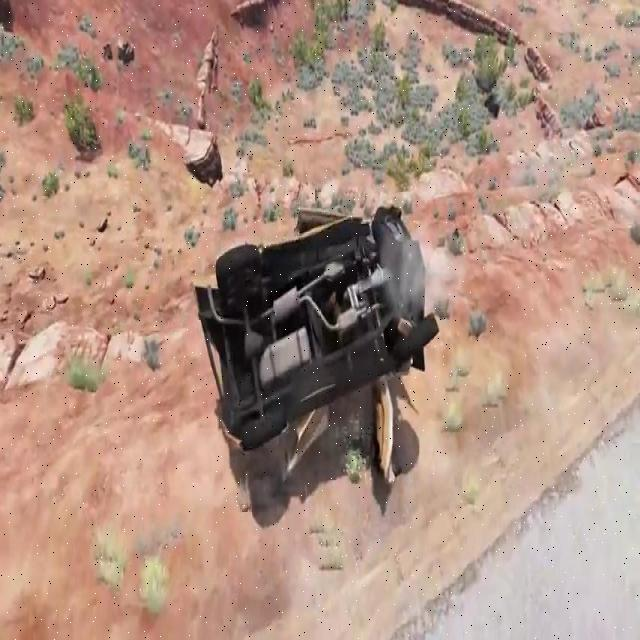severe: (194, 199, 436, 452)
